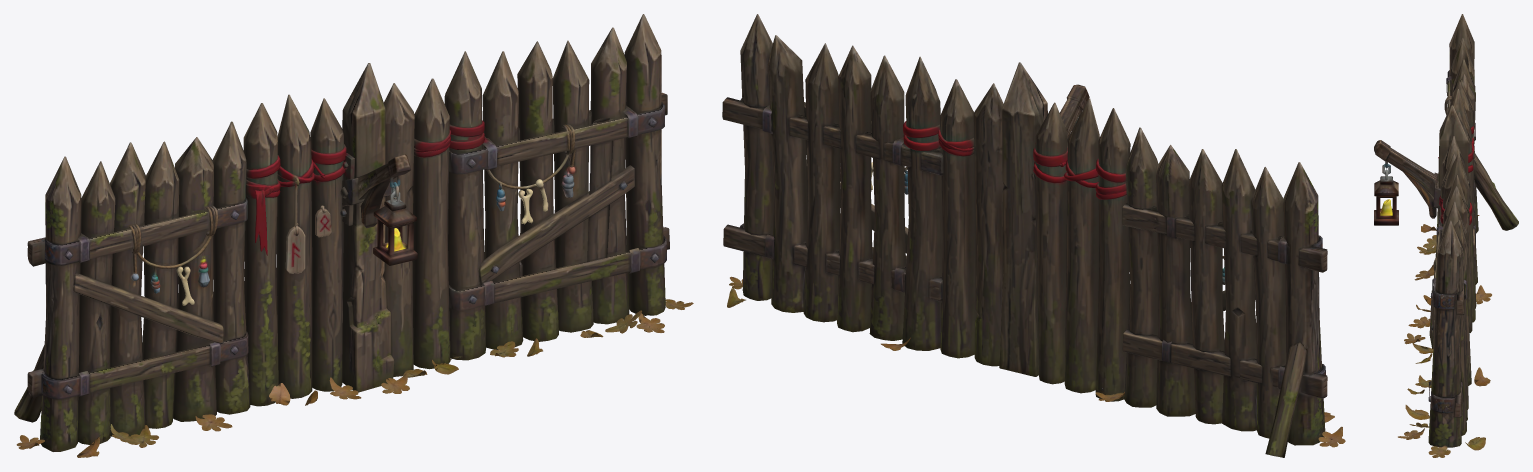
Rendered from palisade.glb.
3 renders of one model, left to right at view 1: azimuth 30°, elevation 25°; view 2: azimuth 150°, elevation 25°; view 3: azimuth 270°, elevation 25°, orthographic. The views are drawn at different scales.
Parts seen in each view (by area): view 1: palisade_0; view 2: palisade_0; view 3: palisade_0.
Boxes of the visible parts, x1,y1,x2,y2 form: palisade_0: [14, 14, 693, 457]; palisade_0: [722, 14, 1345, 457]; palisade_0: [1374, 14, 1518, 457].
Size of the model in its own units: 0.9995 by 0.4575 by 0.2495.
Materials: 1 (1 with a texture image).
